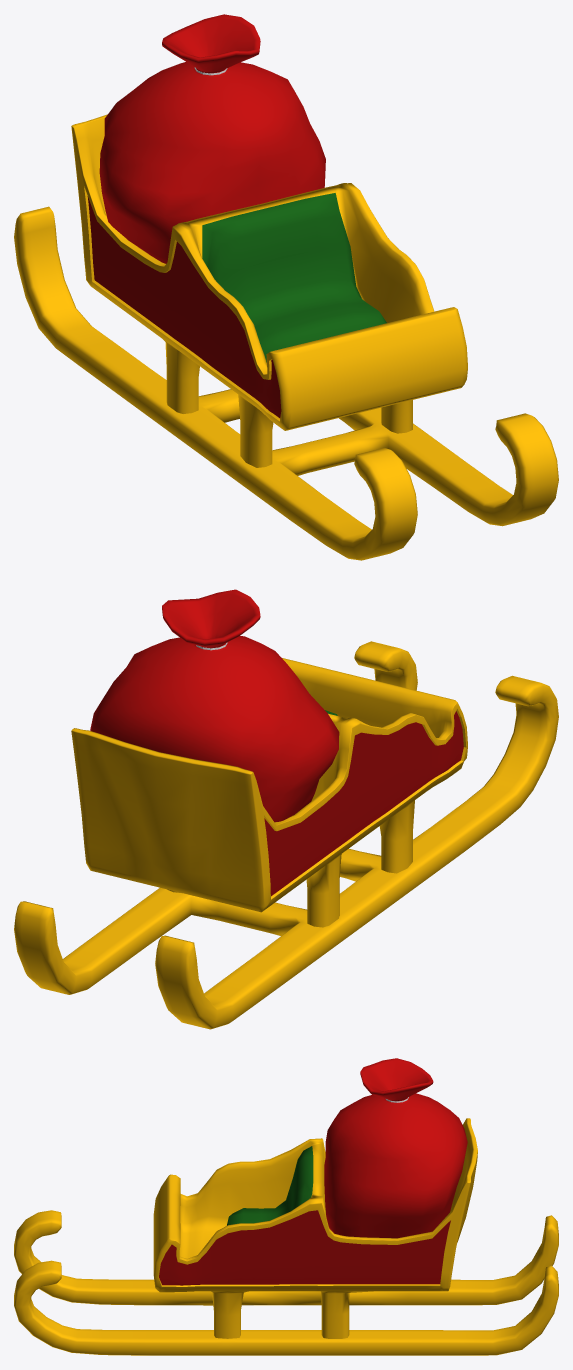
File: sleigh.obj
3 renders of one model, top to bottom at view 1: azimuth 30°, elevation 25°; view 2: azimuth 150°, elevation 25°; view 3: azimuth 270°, elevation 25°, orthographic. The views are drawn at different scales.
Parts seen in each view (by area): view 1: Sleigh_Smooth_Co3; view 2: Sleigh_Smooth_Co3; view 3: Sleigh_Smooth_Co3.
Part boxes in pixels (bbox=[...]): Sleigh_Smooth_Co3: bbox=[14, 14, 558, 560]; Sleigh_Smooth_Co3: bbox=[14, 589, 558, 1029]; Sleigh_Smooth_Co3: bbox=[14, 1058, 558, 1355].
Size of the model in its own units: 1.59 by 2.54 by 4.94.
